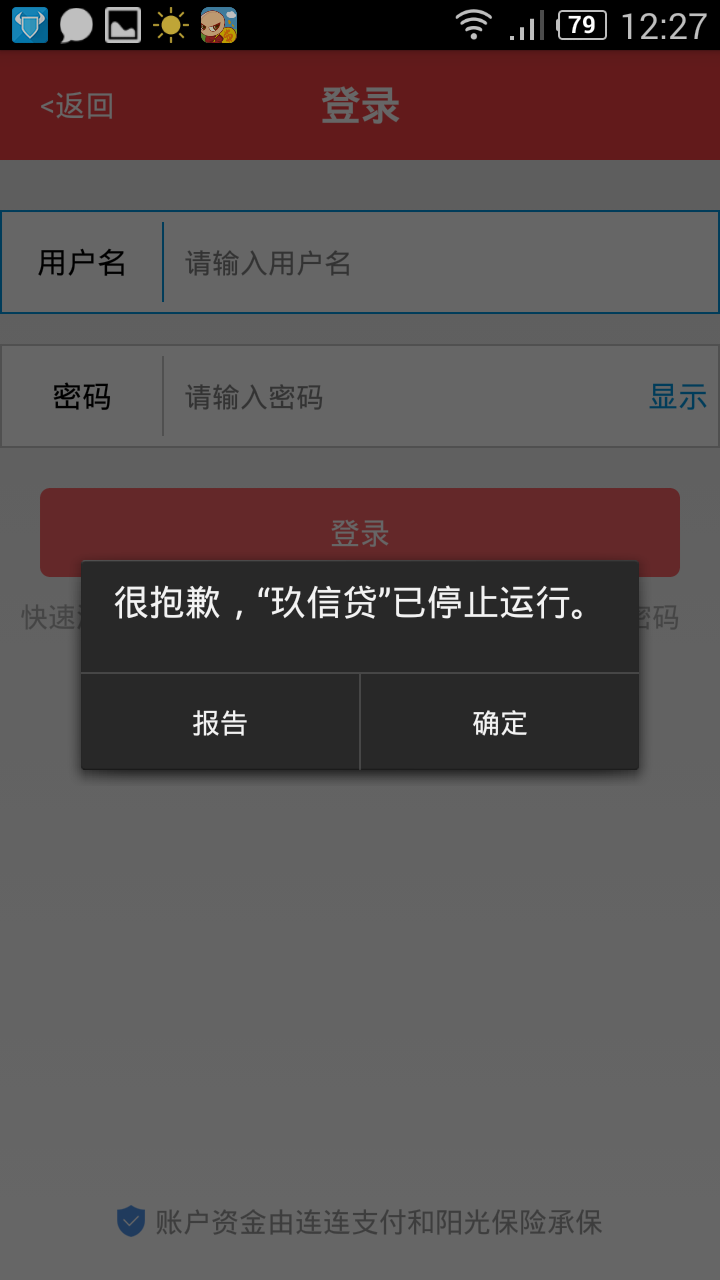alert: (75, 557, 644, 777)
button: (352, 665, 644, 776), (75, 665, 363, 772)
textview: (104, 580, 589, 637)
